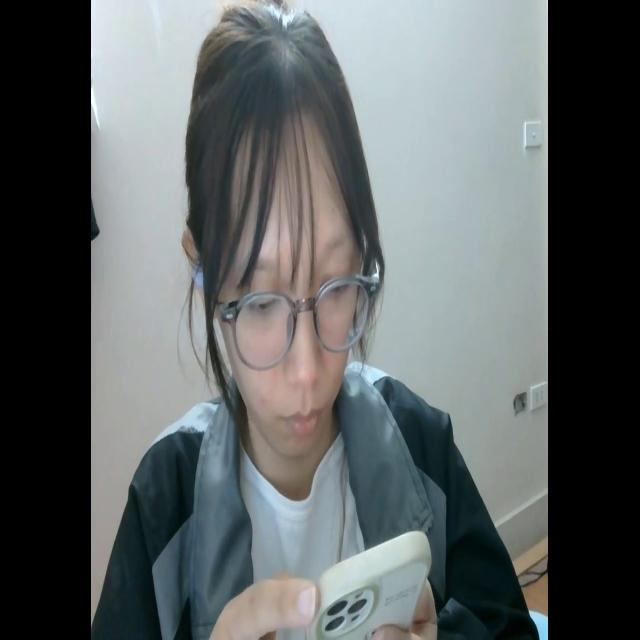phone: (306, 524, 432, 640)
student: (101, 9, 539, 640)
